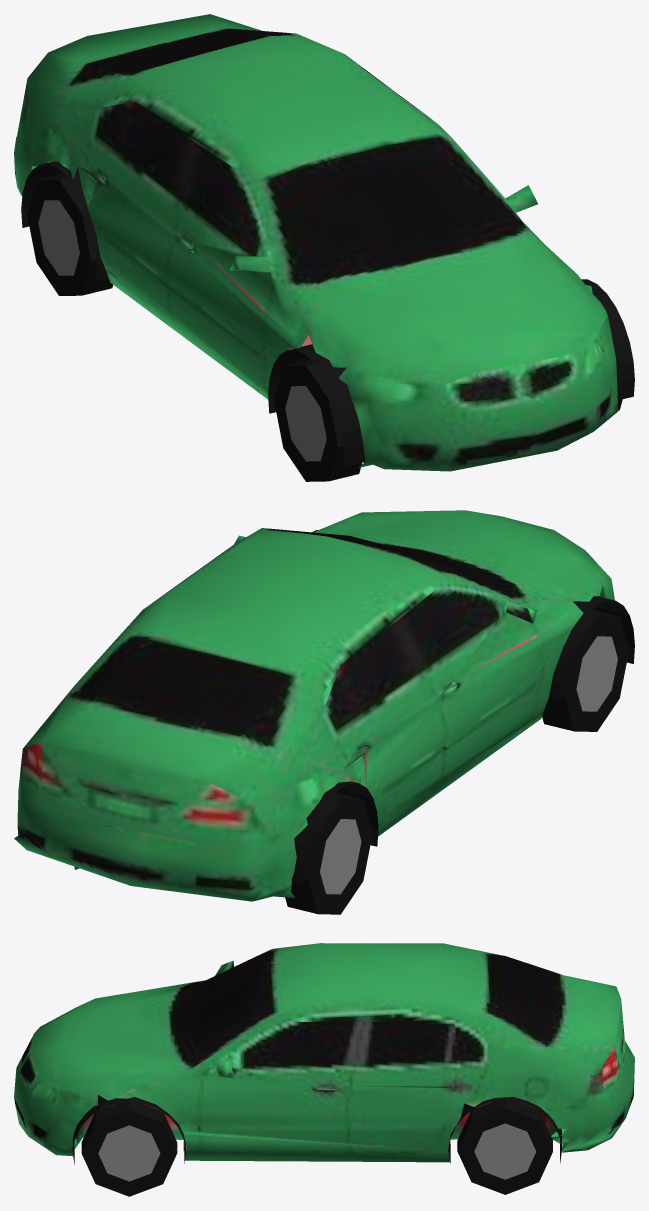
File: saloon-green-far.glb
The picture shows the model from 3 angles, top to bottom: view 1: azimuth 30°, elevation 25°; view 2: azimuth 150°, elevation 25°; view 3: azimuth 270°, elevation 25°; orthographic projection. The views are drawn at different scales.
Visible parts, largest first — view 1: saloon-far; view 2: saloon-far; view 3: saloon-far.
Part boxes in pixels (x1,y1,x2,y2): saloon-far: (14,14,634,481); saloon-far: (14,510,634,914); saloon-far: (14,943,634,1196).
Size of the model in its own units: 1.89 by 1.4 by 4.5.
1 material, 1 textured.
